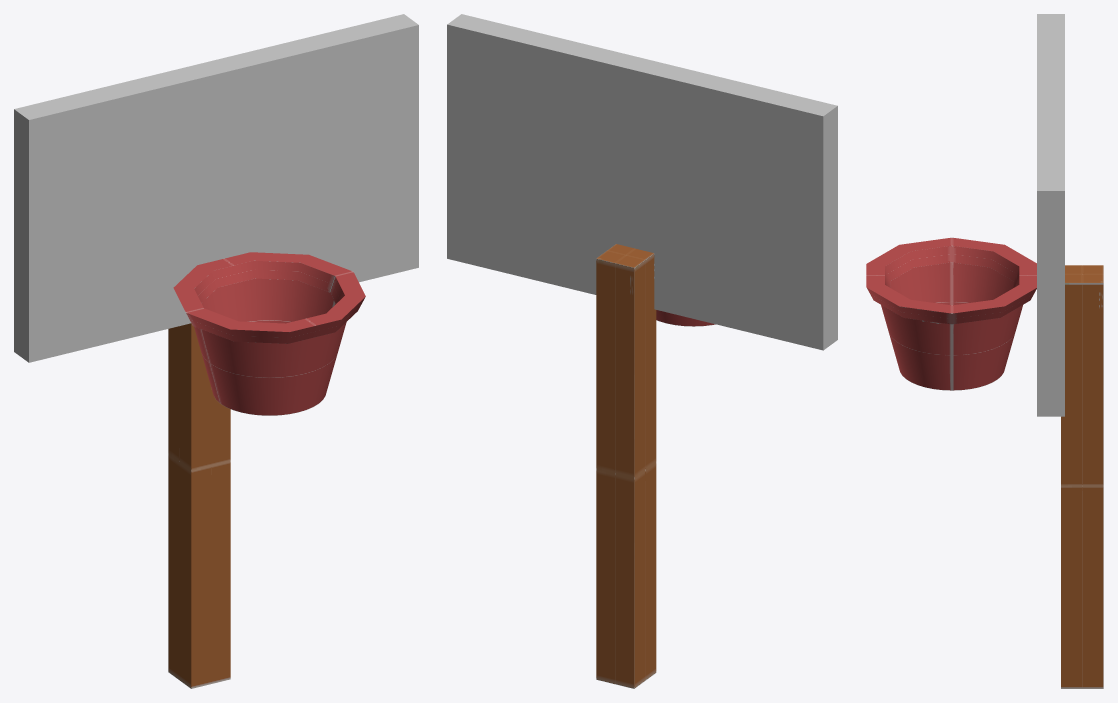
File: Basketv2.fbx
The picture shows the model from 3 angles, left to right: view 1: azimuth 30°, elevation 25°; view 2: azimuth 150°, elevation 25°; view 3: azimuth 270°, elevation 25°; orthographic projection. The views are drawn at different scales.
Visible parts, largest first — view 1: Tablero, Poste, Red, Basket; view 2: Tablero, Poste; view 3: Poste, Red, Tablero, Basket.
Part boxes in pixels (left/top/right/bottom): Tablero: left=14, top=14, right=418, bottom=362; Poste: left=168, top=323, right=230, bottom=688; Red: left=194, top=278, right=346, bottom=415; Basket: left=173, top=252, right=365, bottom=343; Tablero: left=447, top=14, right=837, bottom=350; Poste: left=596, top=244, right=656, bottom=688; Poste: left=1061, top=265, right=1103, bottom=688; Red: left=881, top=262, right=1022, bottom=390; Tablero: left=1037, top=14, right=1064, bottom=416; Basket: left=866, top=237, right=1036, bottom=324.
Size of the model in its own units: 1842 by 2803 by 1042.
